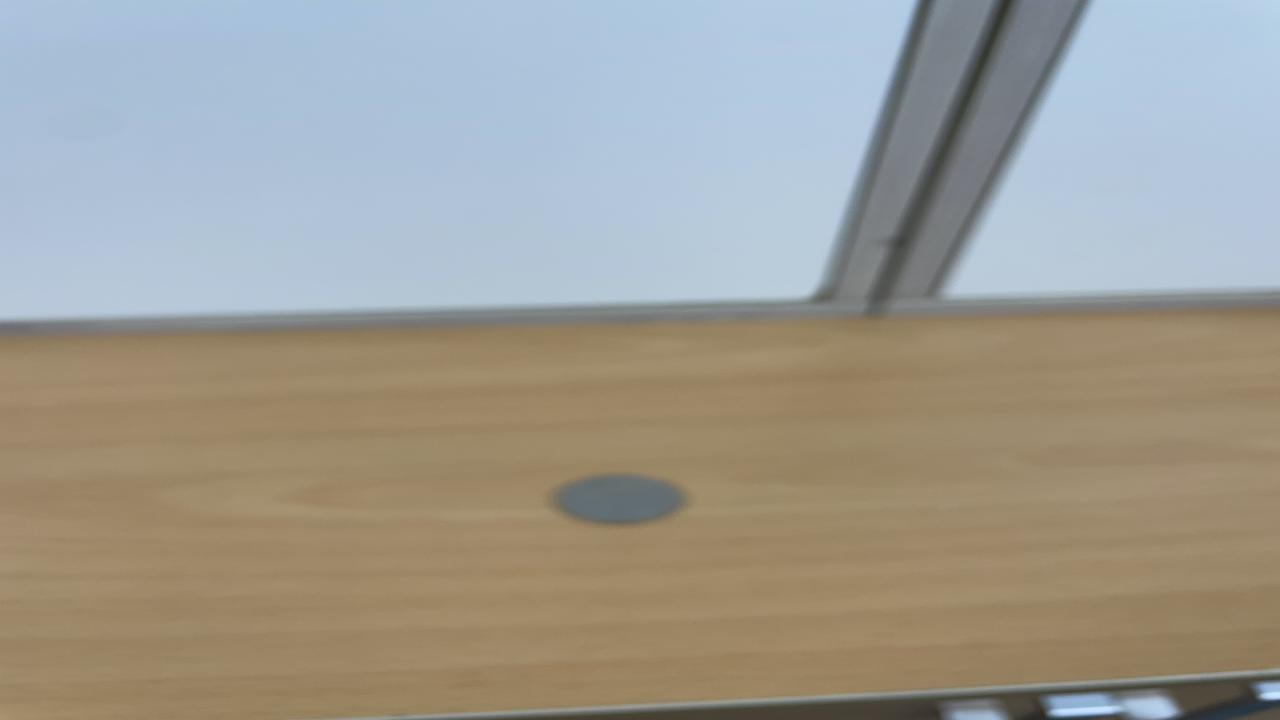coin: (542, 470, 693, 528)
